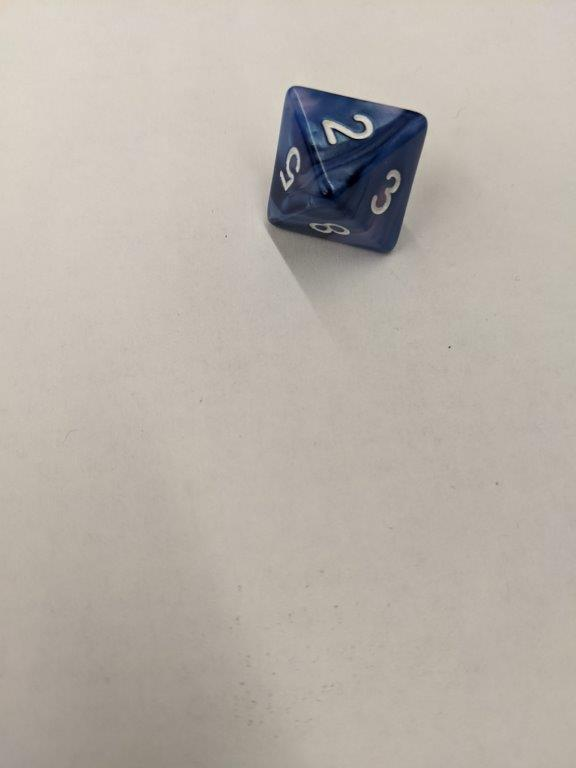d8-2: (266, 87, 431, 253)
